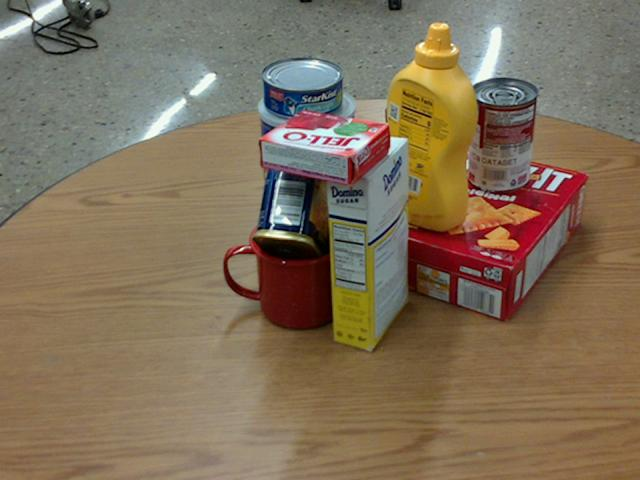cracker_box: (361, 142, 586, 321)
gelatin_box: (257, 108, 391, 186)
large_marker: (382, 105, 399, 205)
master_chef_can: (259, 83, 356, 240)
mug: (220, 211, 344, 328)
mustard_bottle: (380, 23, 477, 231)
potted_meat_can: (252, 147, 336, 266)
sugar_box: (324, 133, 407, 350)
tomato_soup_can: (466, 77, 536, 191)
tuna_fish_can: (261, 56, 343, 117)
